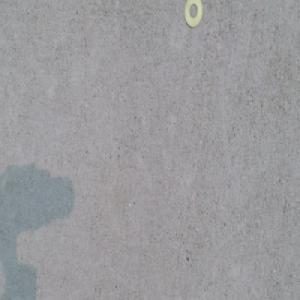Washer: (183, 0, 203, 28)
